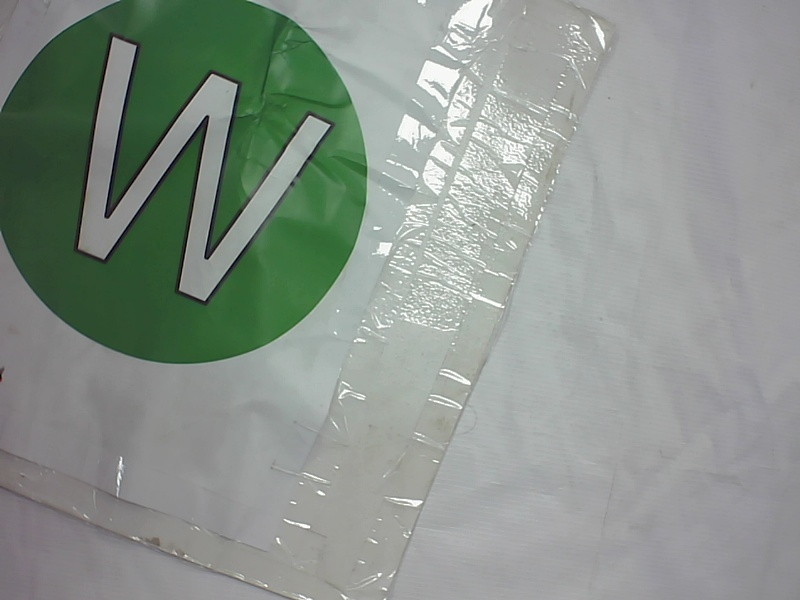areaB: (2, 1, 381, 369)
